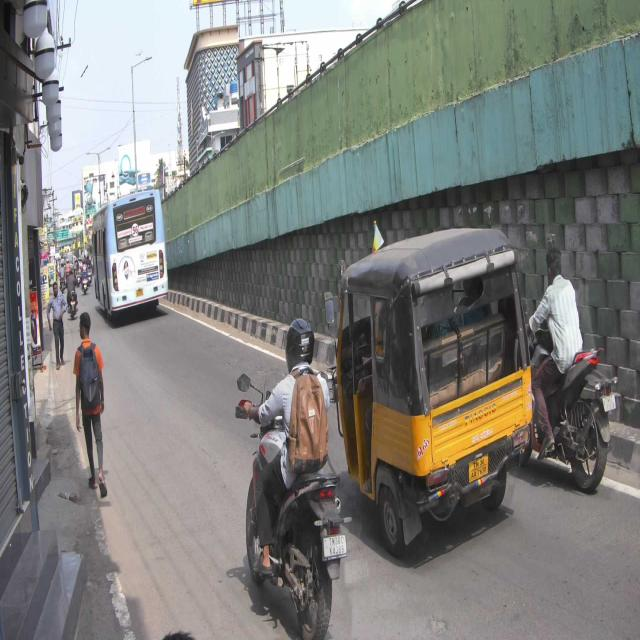single_rider: (232, 314, 352, 640), (523, 242, 623, 497)
